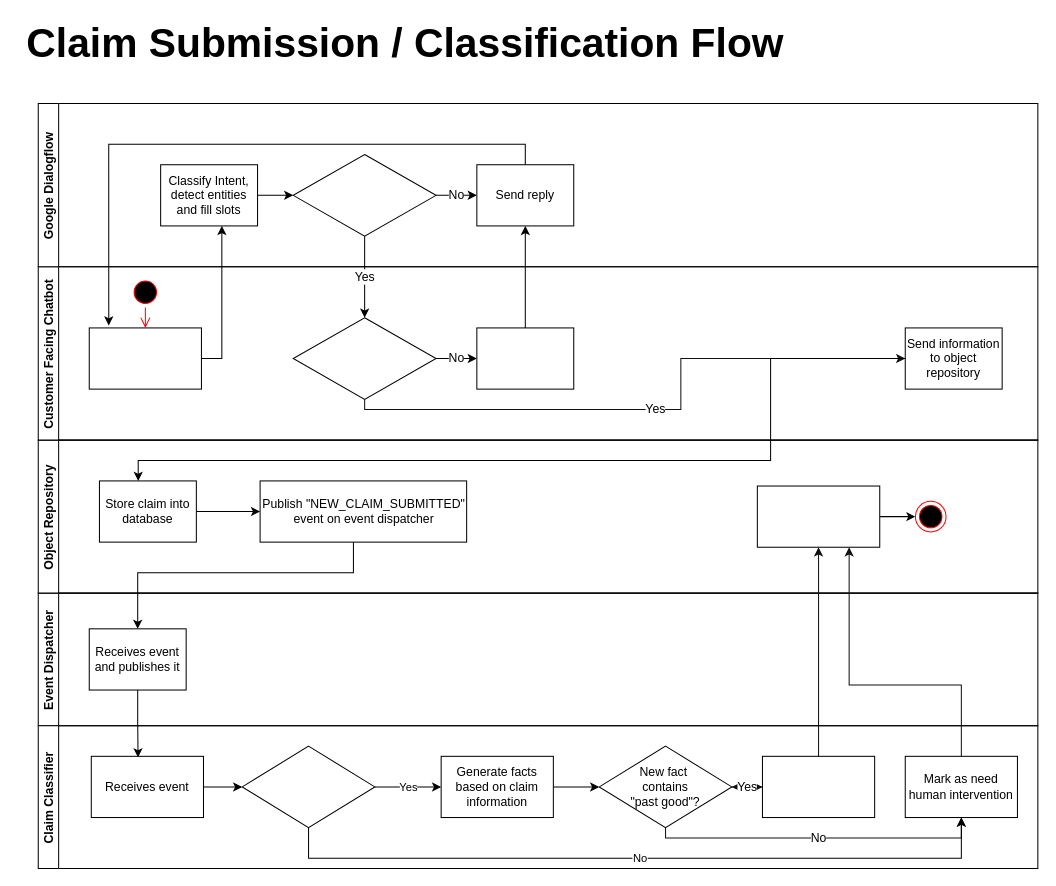
The diagram is 1056 pixels wide and 886 high, and some of its shapes have lost their labels. Here are the shapes that lost their labels. From the top down, the centre of each, then its label:
(x=364, y=195): Intent requires fulfillment server?
(x=144, y=358): Customer inputs free form text input into the bot
(x=364, y=358): Intent is " SubmitClaim"?
(x=525, y=358): Return reply to Dialogflow based on intent
(x=818, y=516): Updates claim in database
(x=308, y=786): Passes constraints?
(x=818, y=786): Approve claim
